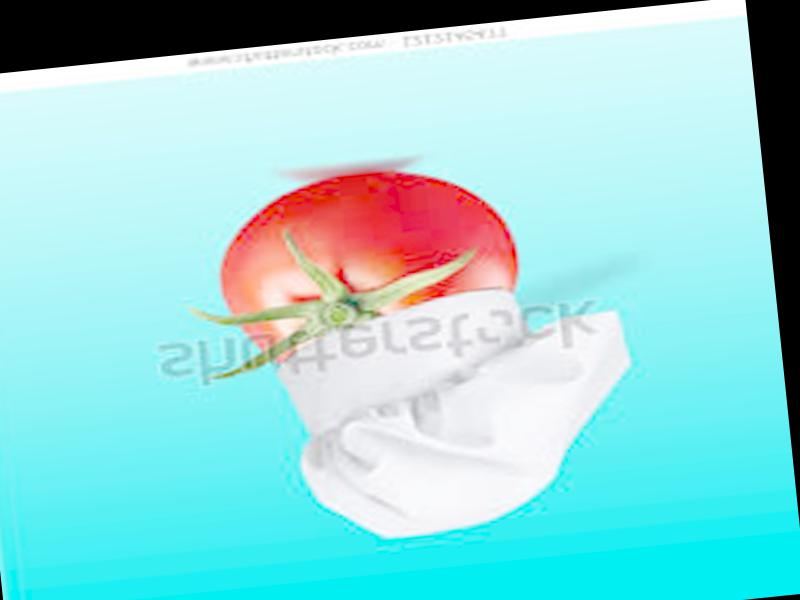Tomato: (216, 160, 526, 368)
